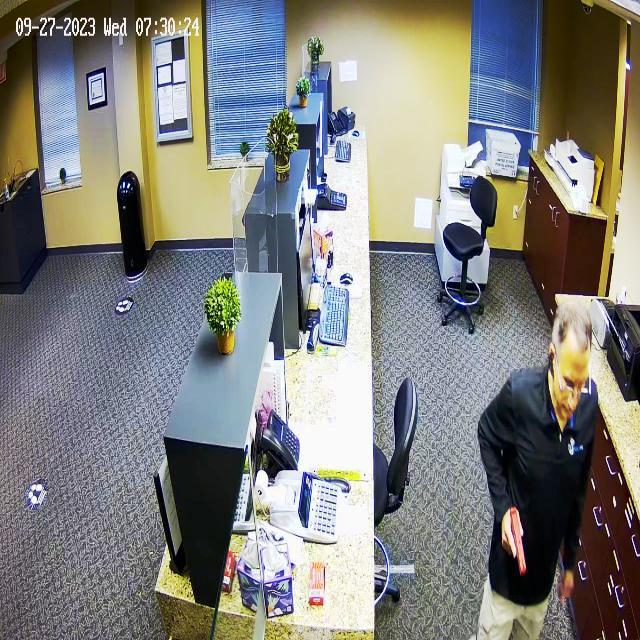Gun: (491, 502, 532, 580)
